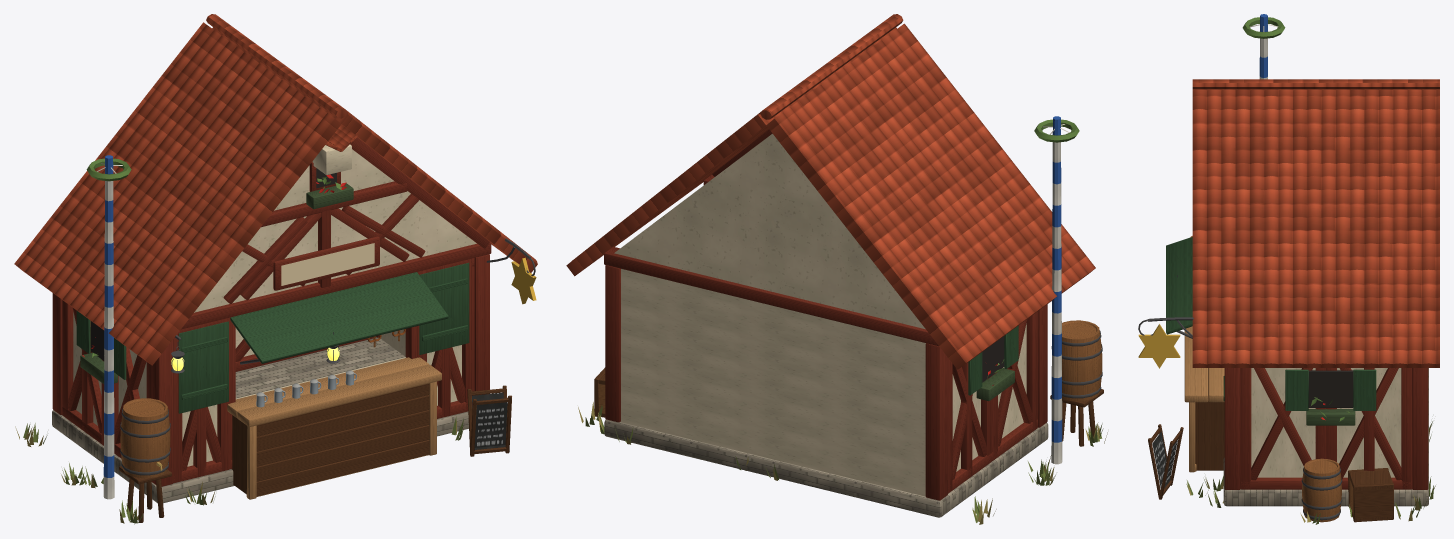
File: tavern-bavarian.glb
3 views of the same model, side by side, from view 1: azimuth 30°, elevation 25°; view 2: azimuth 150°, elevation 25°; view 3: azimuth 270°, elevation 25° (orthographic). The views are drawn at different scales.
Visible parts, largest first — view 1: tavern_bavarian, sign_face; view 2: tavern_bavarian; view 3: tavern_bavarian.
Part boxes in pixels (box(x1,y1,x2,y2)): tavern_bavarian: box(14, 14, 537, 524); sign_face: box(281, 243, 374, 285); tavern_bavarian: box(566, 14, 1107, 524); tavern_bavarian: box(1138, 14, 1439, 524).
Size of the model in its own units: 8.44 by 6.98 by 5.45.
27 materials, 11 textured.
